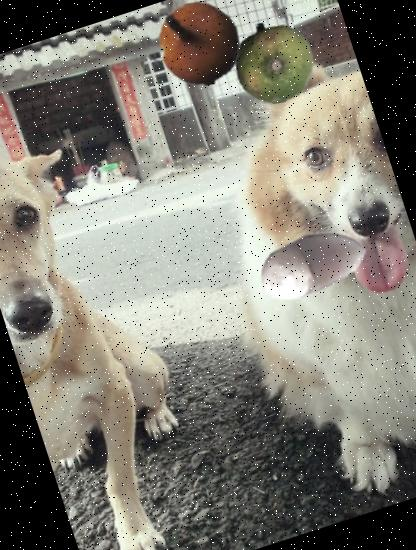Granadilla: (146, 0, 252, 96)
Hazelnut: (241, 192, 383, 334)
Limes: (223, 10, 326, 114)
